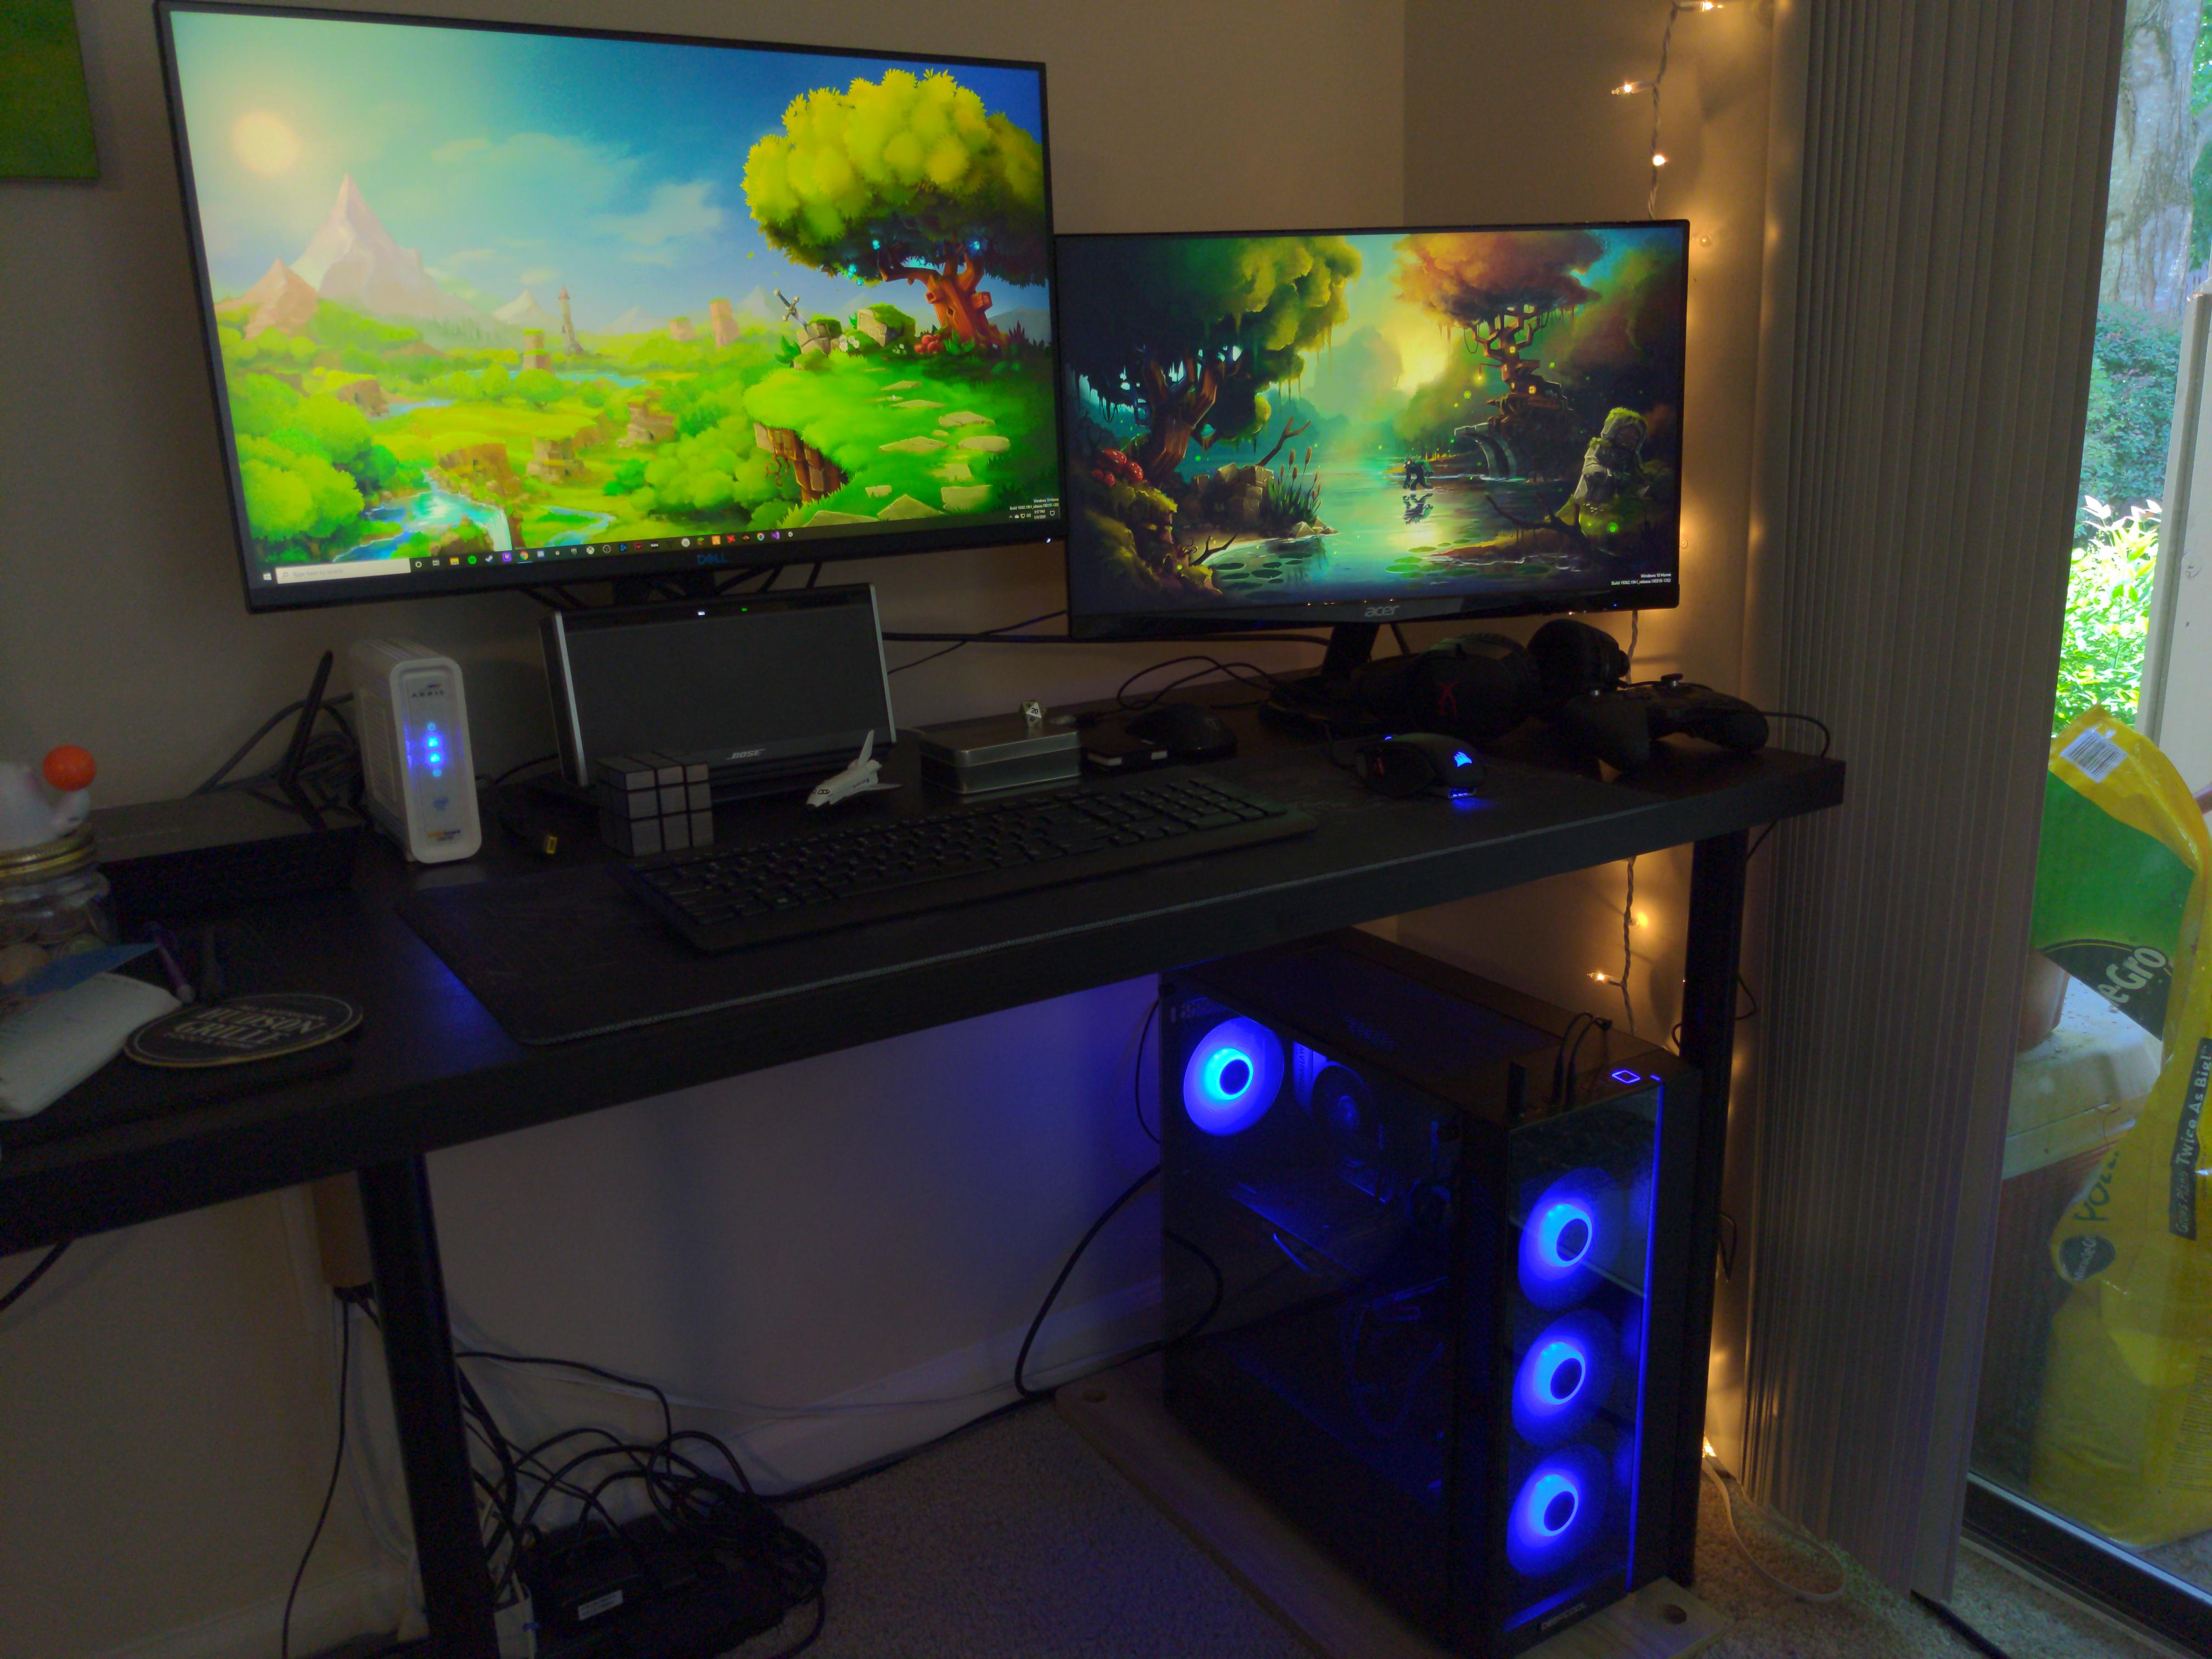Decoration (Miniature): (784, 718, 920, 816)
Decoration (Rubric's Cube): (587, 741, 718, 864)
Desk (Generic): (0, 640, 1878, 1631)
Desktop (Windows): (1137, 931, 1716, 1647)
Gaming Controller: (1555, 643, 1775, 795)
Headphones: (1411, 608, 1644, 713)
Keyboard (Ergonomic): (624, 737, 1336, 988)
Monitor (Landscape): (141, 0, 1069, 622), (1066, 213, 1695, 638)
Mouse (Gaming): (1355, 709, 1510, 817)
Mousepad (Generic): (374, 709, 1676, 1089)
Router: (61, 634, 381, 889)
